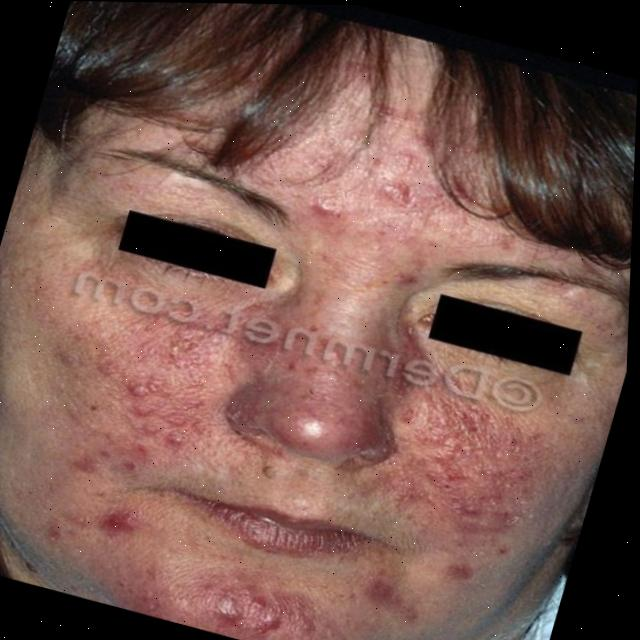Rosacea: (13, 281, 592, 640), (340, 159, 433, 239)
